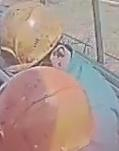helmet: (0, 66, 94, 150), (0, 1, 64, 68)
vest: (79, 58, 119, 151)
